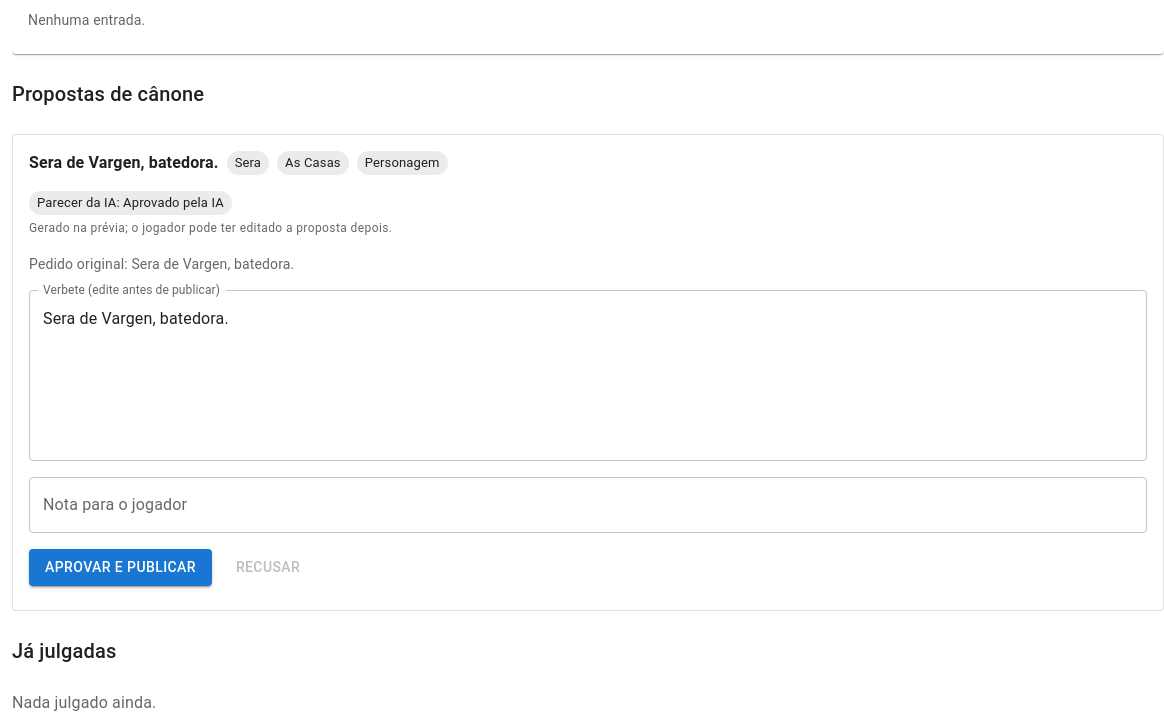
Test: AdminCanonTab › approves the submission and removes it from the pending list
The image size is (1164, 715).
(page scrolled)
Click the button "Aprovar e publicar": (120, 568) [29,550,212,586]
(page scrolled)
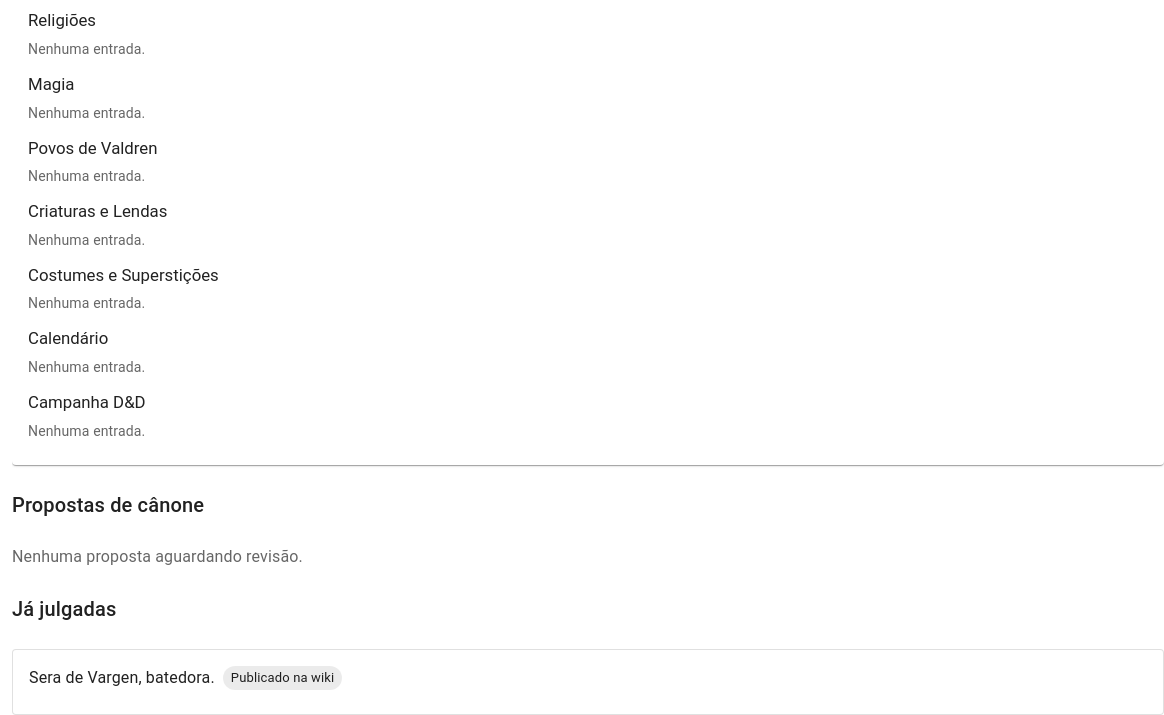
Result: the button "Aprovar e publicar" is gone
Result: the text "Publicado na wiki" is shown at [223,668,342,687]
